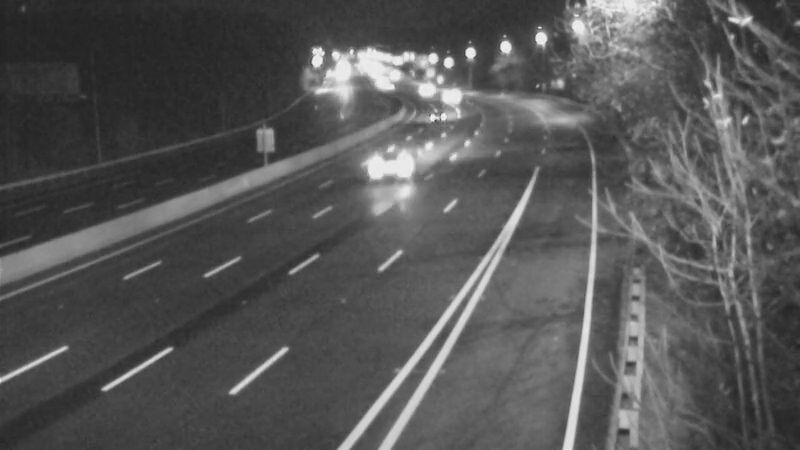vehicle: (358, 131, 438, 211), (398, 62, 448, 112), (422, 72, 472, 122), (411, 90, 461, 140)
